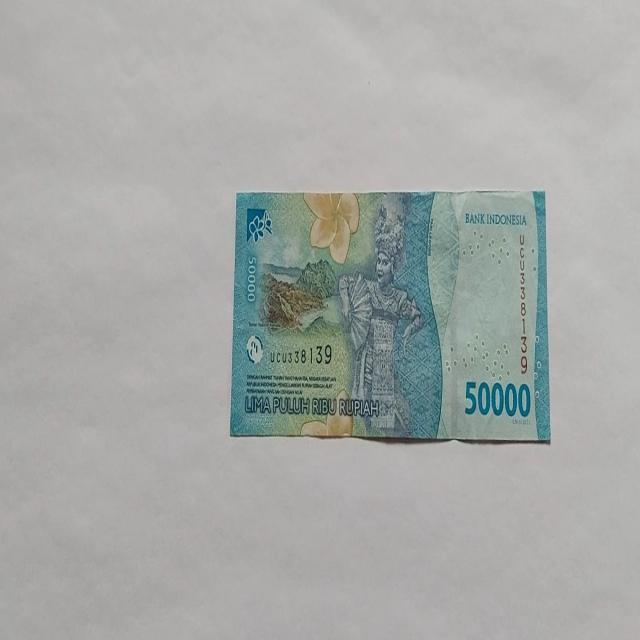lima puluh ribu rupiah: (229, 188, 551, 442)
